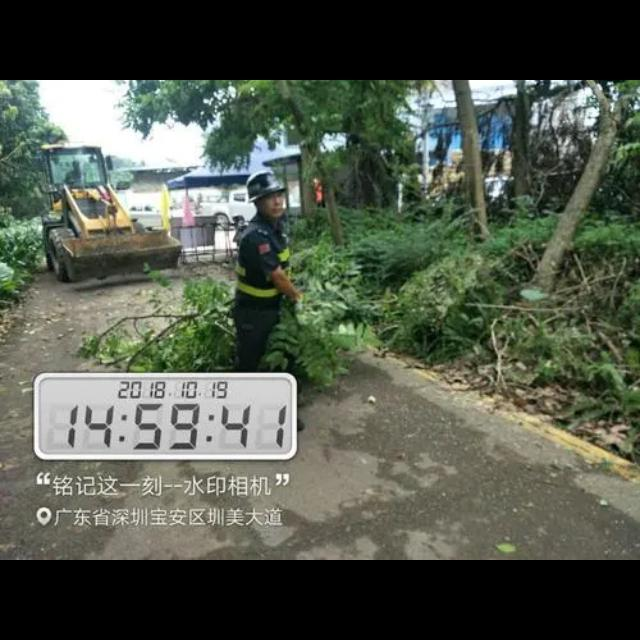fallen_tree: (83, 238, 379, 404)
